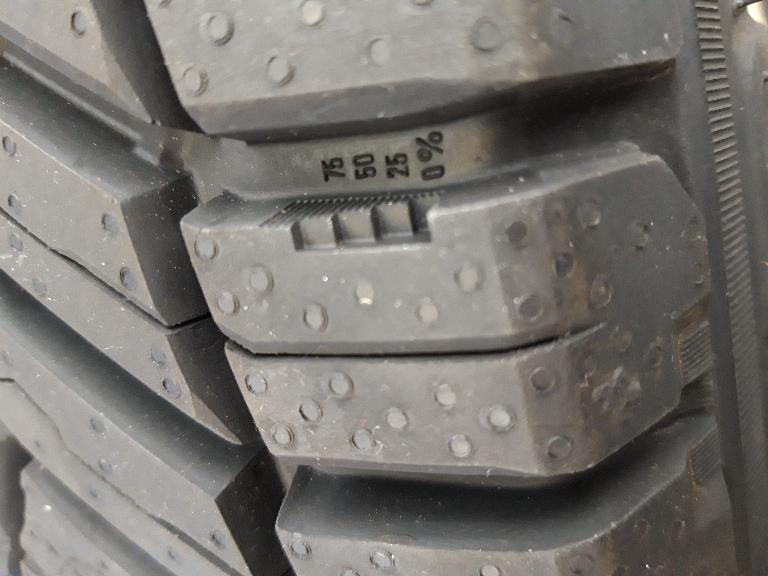temoin:100: (258, 187, 448, 256)
